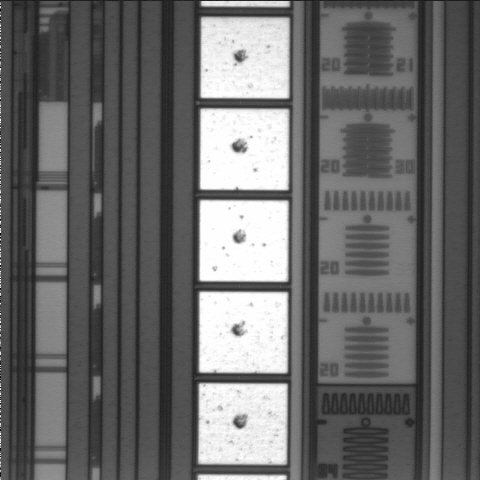pad: (199, 200, 288, 282), (198, 383, 287, 465), (200, 109, 289, 190), (199, 292, 288, 373), (201, 17, 289, 98)
